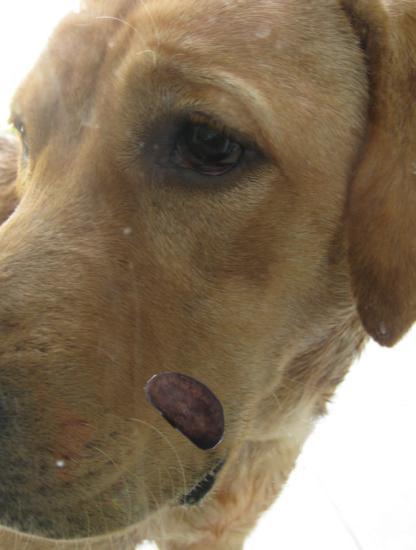Chestnut: (143, 359, 238, 454)
